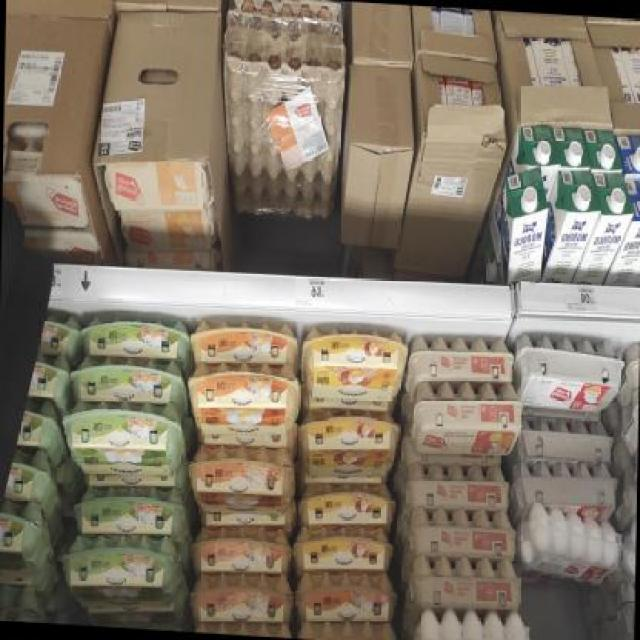Egg: (61, 398, 187, 480), (60, 532, 182, 614), (409, 378, 523, 460), (512, 332, 623, 416), (186, 359, 300, 438), (300, 321, 408, 404), (187, 440, 296, 518), (298, 409, 400, 480), (74, 484, 190, 541), (411, 554, 523, 612), (408, 504, 518, 559), (70, 355, 185, 407), (189, 569, 293, 626), (407, 331, 515, 384), (293, 570, 398, 624), (404, 460, 511, 512), (190, 522, 292, 576), (192, 316, 299, 367), (81, 314, 190, 361), (296, 480, 398, 529), (292, 524, 394, 573), (0, 501, 54, 582), (4, 449, 59, 503), (28, 350, 72, 404), (89, 604, 180, 630), (14, 402, 60, 451), (186, 618, 296, 638), (296, 619, 402, 639), (40, 312, 82, 362), (0, 585, 48, 623)
